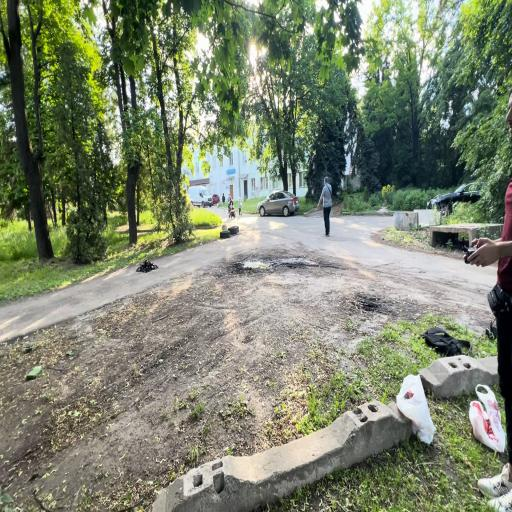drone: (136, 259, 158, 273)
